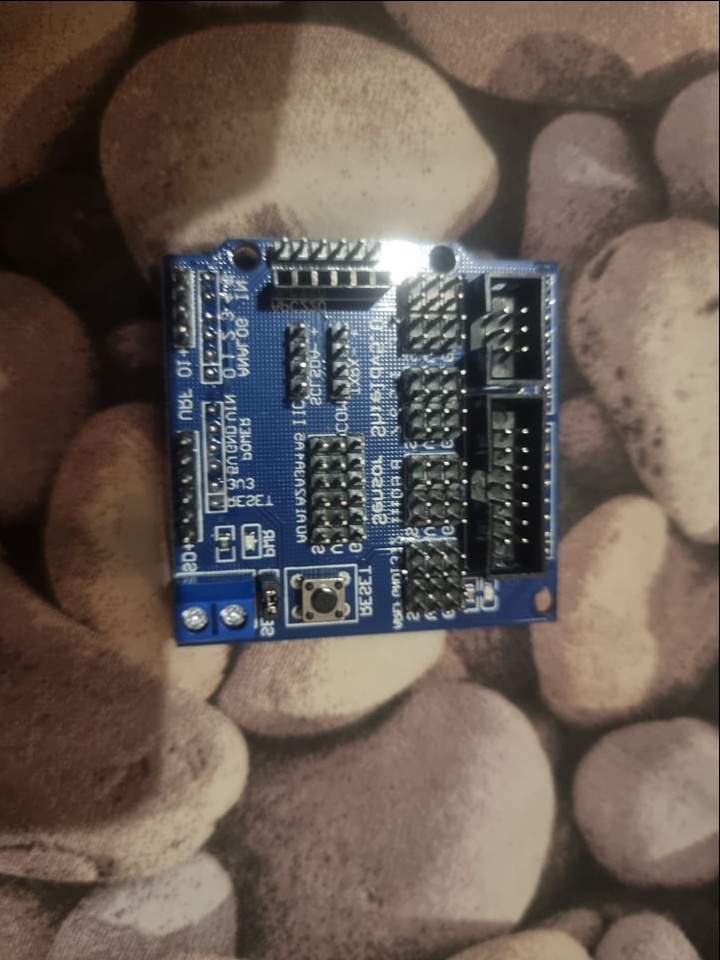5V EXPANSION: (168, 235, 562, 647)
